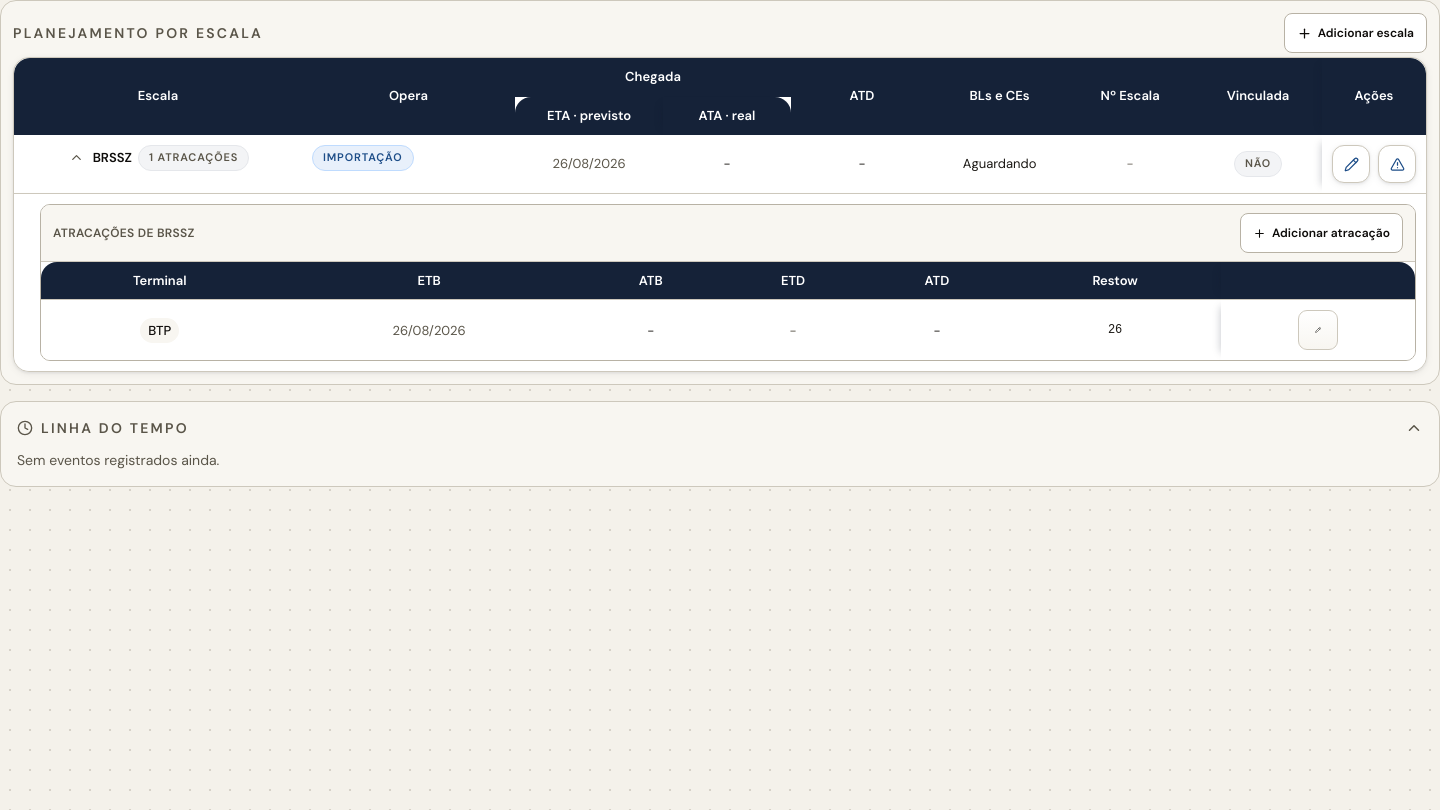
it: recolhe e expande o painel próprio de atracações sem perder os dados da escala
This screenshot has width=1440, height=810.
Expected: the table named "Atracações de BRSSZ" is shown, [41,262,1415,360]
Click the button with aria-label "Adicionar atracação na escala BRSSZ" at (1322, 233), box [1240,213,1403,253]
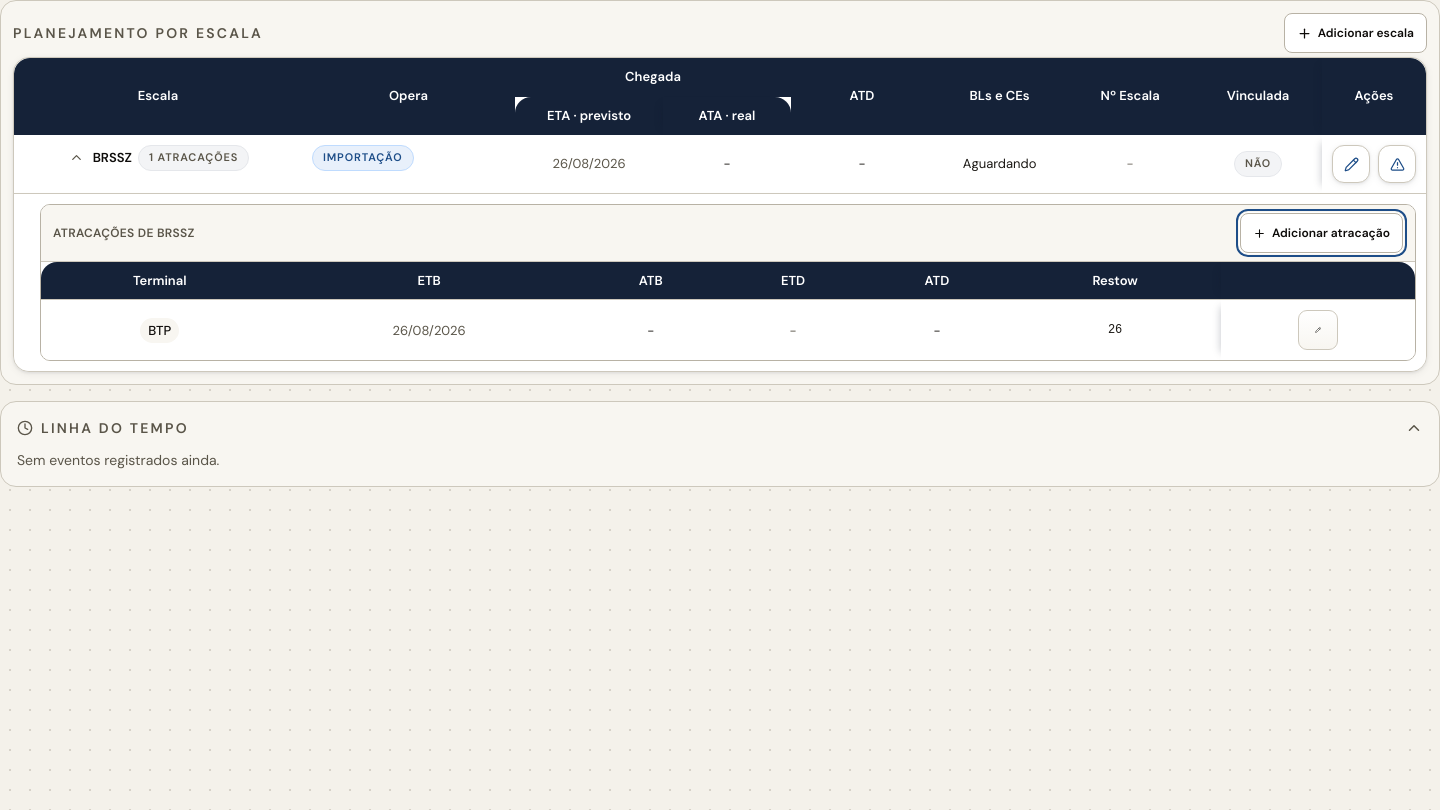
Click the button named "Editar atracação BTP da escala BRSSZ" at (1318, 330), box [1298,310,1338,350]
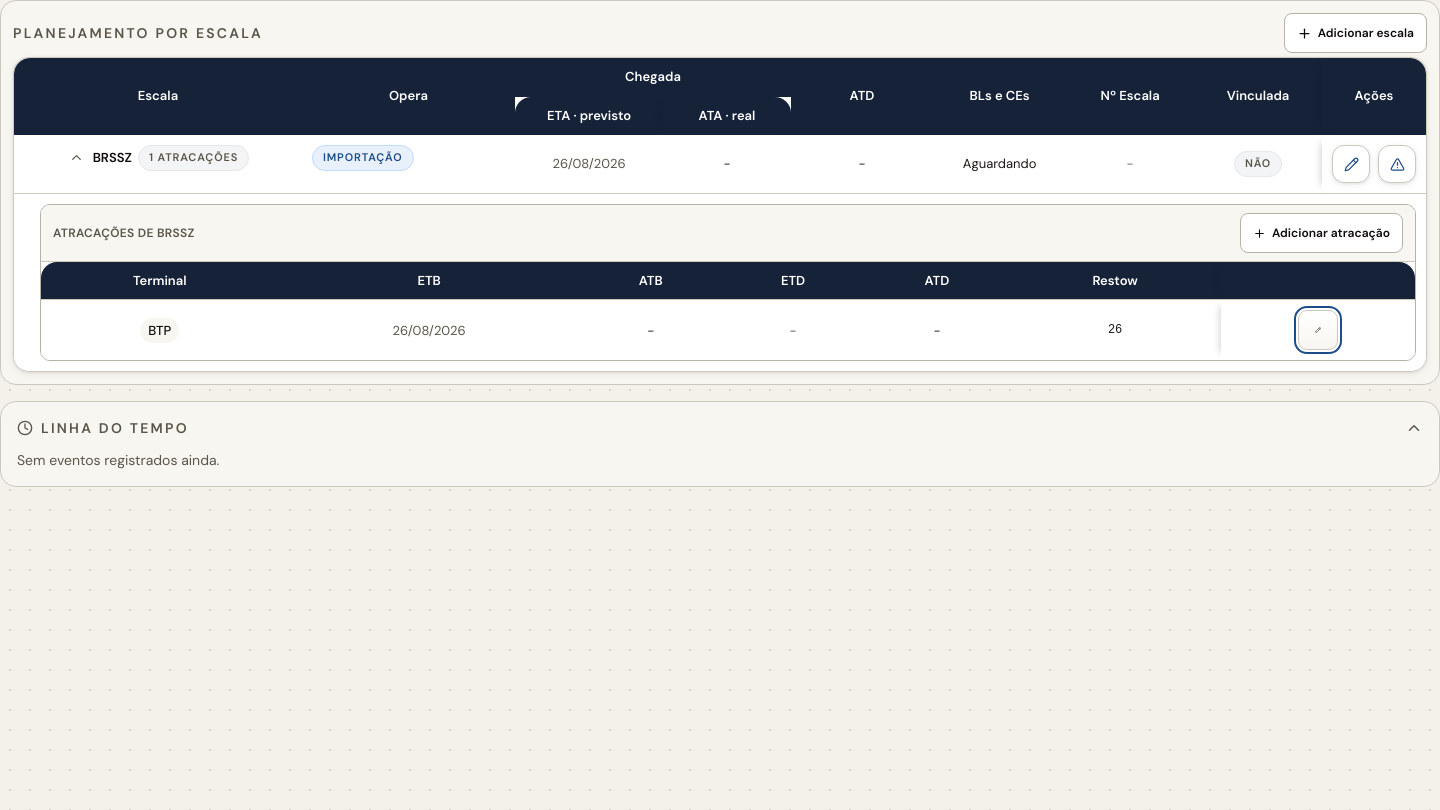
Click the button named "Recolher atracações de BRSSZ" at (77, 158), box [67,148,87,168]
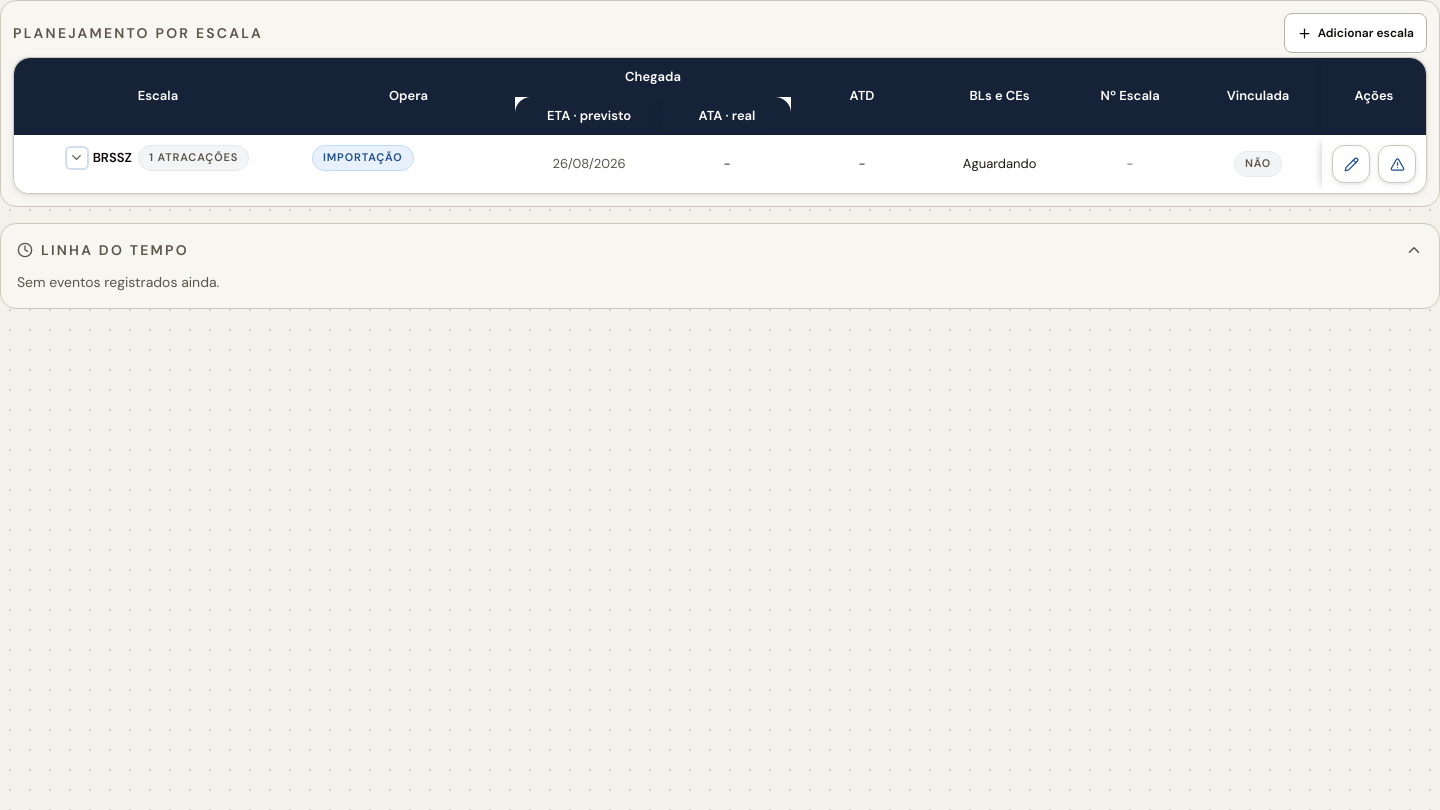
Result: the text "Atracações de BRSSZ" is gone
Click the button named "Expandir atracações de BRSSZ" at (77, 158), box [67,148,87,168]
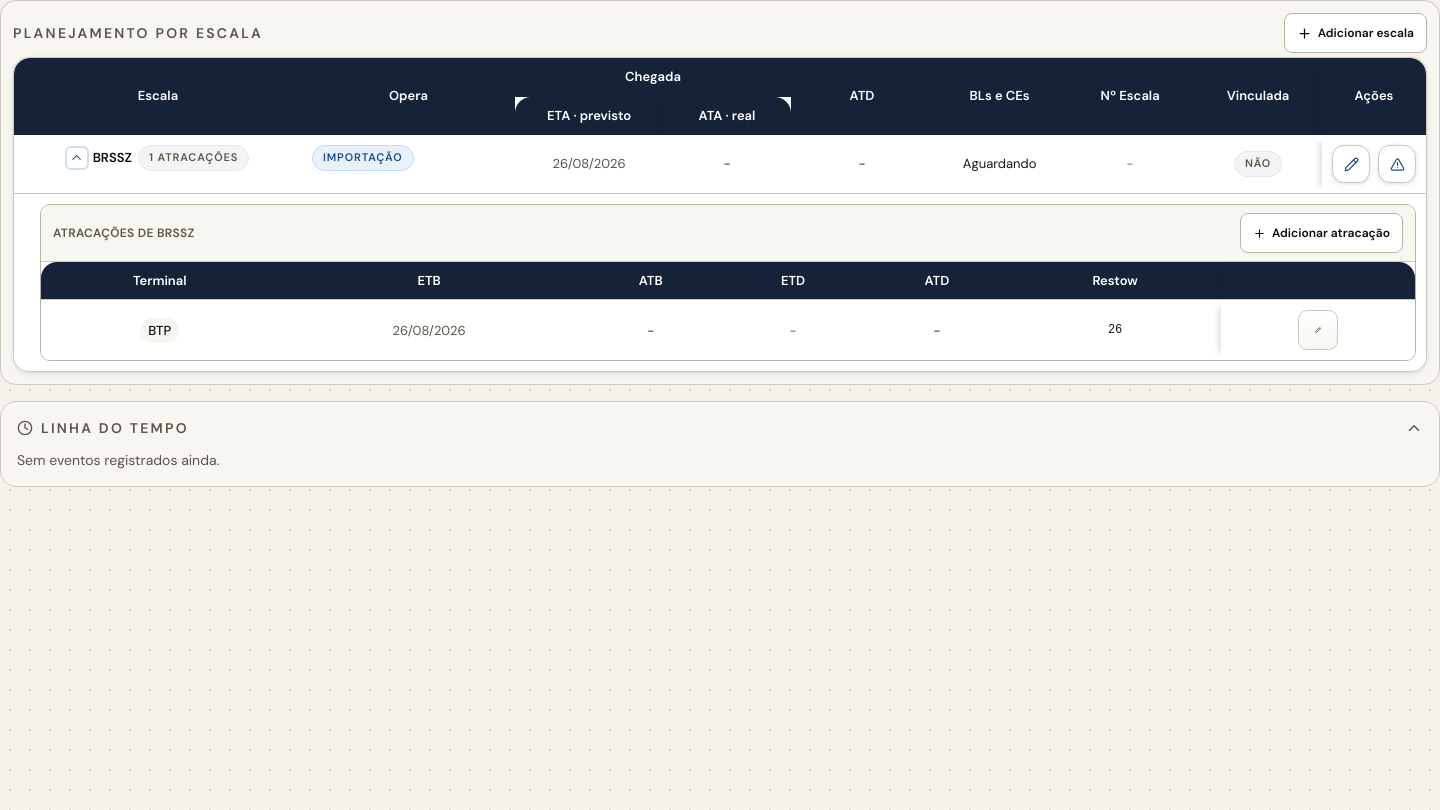
Result: the table named "Atracações de BRSSZ" is shown at [41,262,1415,360]
Result: the text "BTP" is shown at [140,318,179,343]
